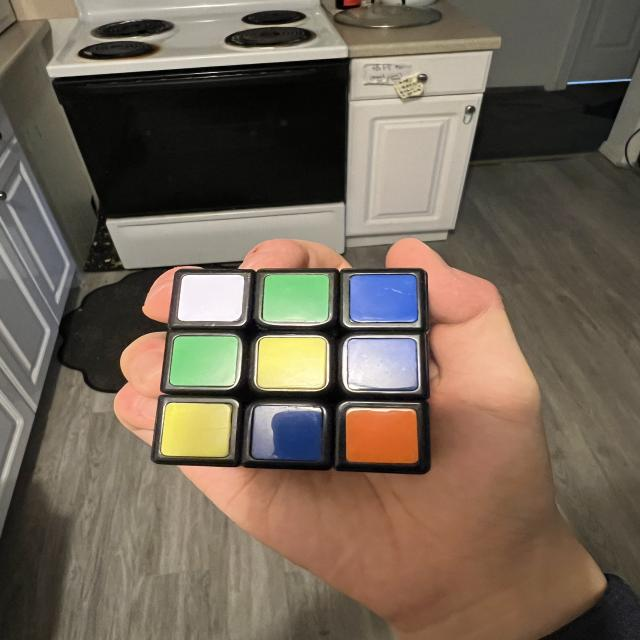blue: (249, 404, 323, 462), (347, 338, 418, 392), (349, 274, 418, 323)
center: (253, 335, 329, 392)
green: (170, 336, 237, 387), (263, 274, 329, 324)
orange: (345, 407, 419, 464)
white: (177, 272, 246, 324)
yellow: (159, 402, 233, 458)
